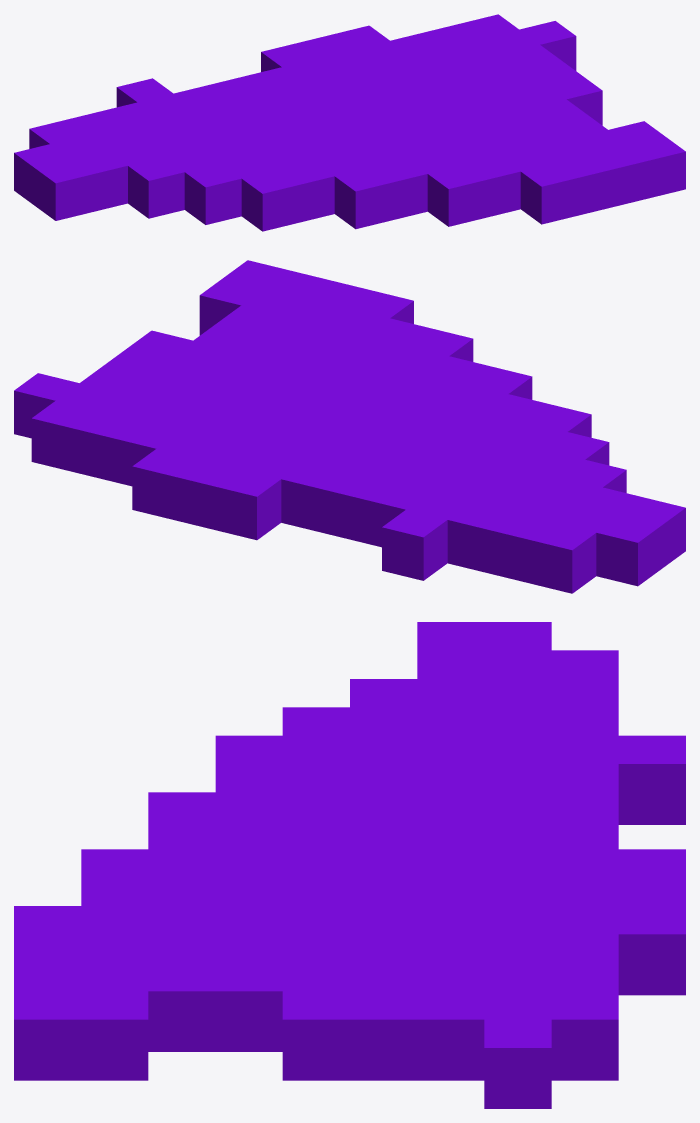
Rendered from Melaka.fbx.
The picture shows the model from 3 angles, top to bottom: view 1: azimuth 30°, elevation 25°; view 2: azimuth 150°, elevation 25°; view 3: azimuth 270°, elevation 25°; orthographic projection. The views are drawn at different scales.
Visible parts, largest first — view 1: Melaka; view 2: Melaka; view 3: Melaka.
Boxes of the visible parts, x1,y1,x2,y2 form: Melaka: [14, 14, 685, 231]; Melaka: [14, 260, 685, 593]; Melaka: [14, 622, 685, 1108].
Size of the model in its own units: 15 by 1 by 10.
1 material, 1 textured.
